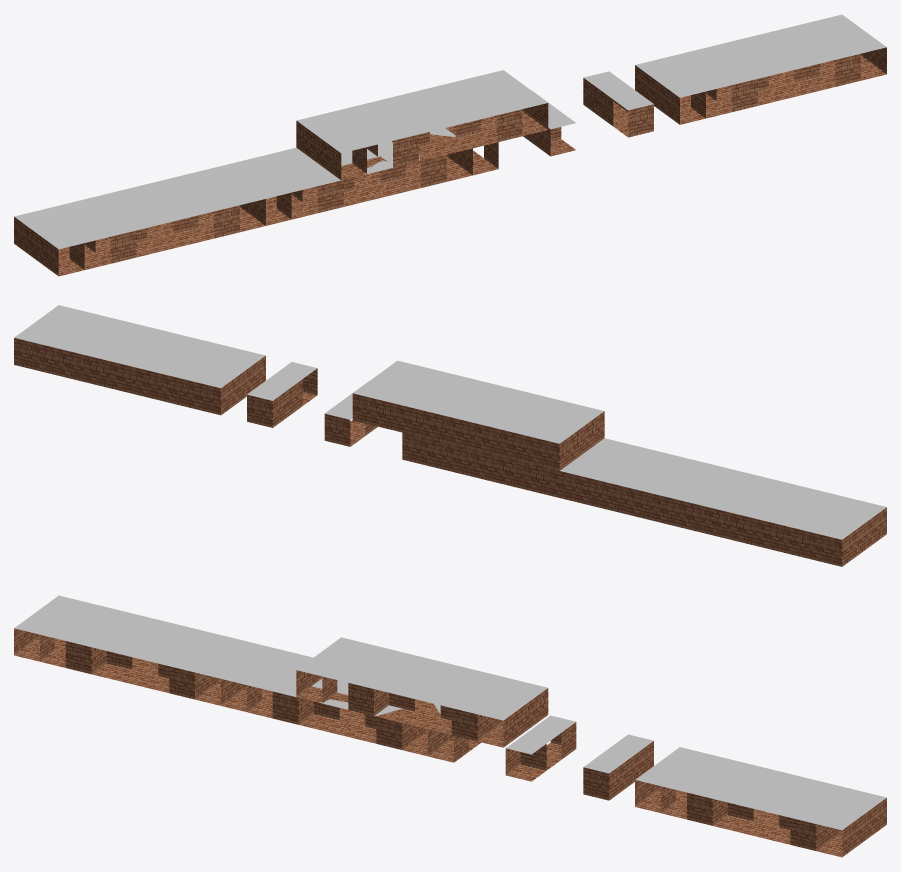
The model's file is stage_00.fbx.
3 renders of one model, top to bottom at view 1: azimuth 30°, elevation 25°; view 2: azimuth 150°, elevation 25°; view 3: azimuth 330°, elevation 25°, orthographic.
Parts seen in each view (by area): view 1: Box_400_400, Box_400_402, Box_400_404, Box_400_401, Box_400_403; view 2: Box_400_404, Box_400_400, Box_400_402, Box_400_401, Box_400_403; view 3: Box_400_402, Box_400_404, Box_400_400, Box_400_401, Box_400_403.
Part boxes in pixels (x1,y1,x2,y2): Box_400_400: [14, 166, 265, 276]; Box_400_402: [635, 14, 886, 124]; Box_400_404: [296, 70, 548, 180]; Box_400_401: [221, 128, 472, 225]; Box_400_403: [473, 71, 653, 175]; Box_400_404: [352, 360, 604, 470]; Box_400_400: [635, 456, 886, 566]; Box_400_402: [14, 305, 265, 415]; Box_400_401: [428, 438, 679, 516]; Box_400_403: [247, 362, 427, 465]; Box_400_402: [635, 747, 886, 857]; Box_400_404: [296, 637, 548, 747]; Box_400_400: [14, 595, 265, 705]; Box_400_401: [221, 646, 440, 756]; Box_400_403: [428, 715, 653, 800].
Size of the model in its own units: 3200 by 300 by 200.
